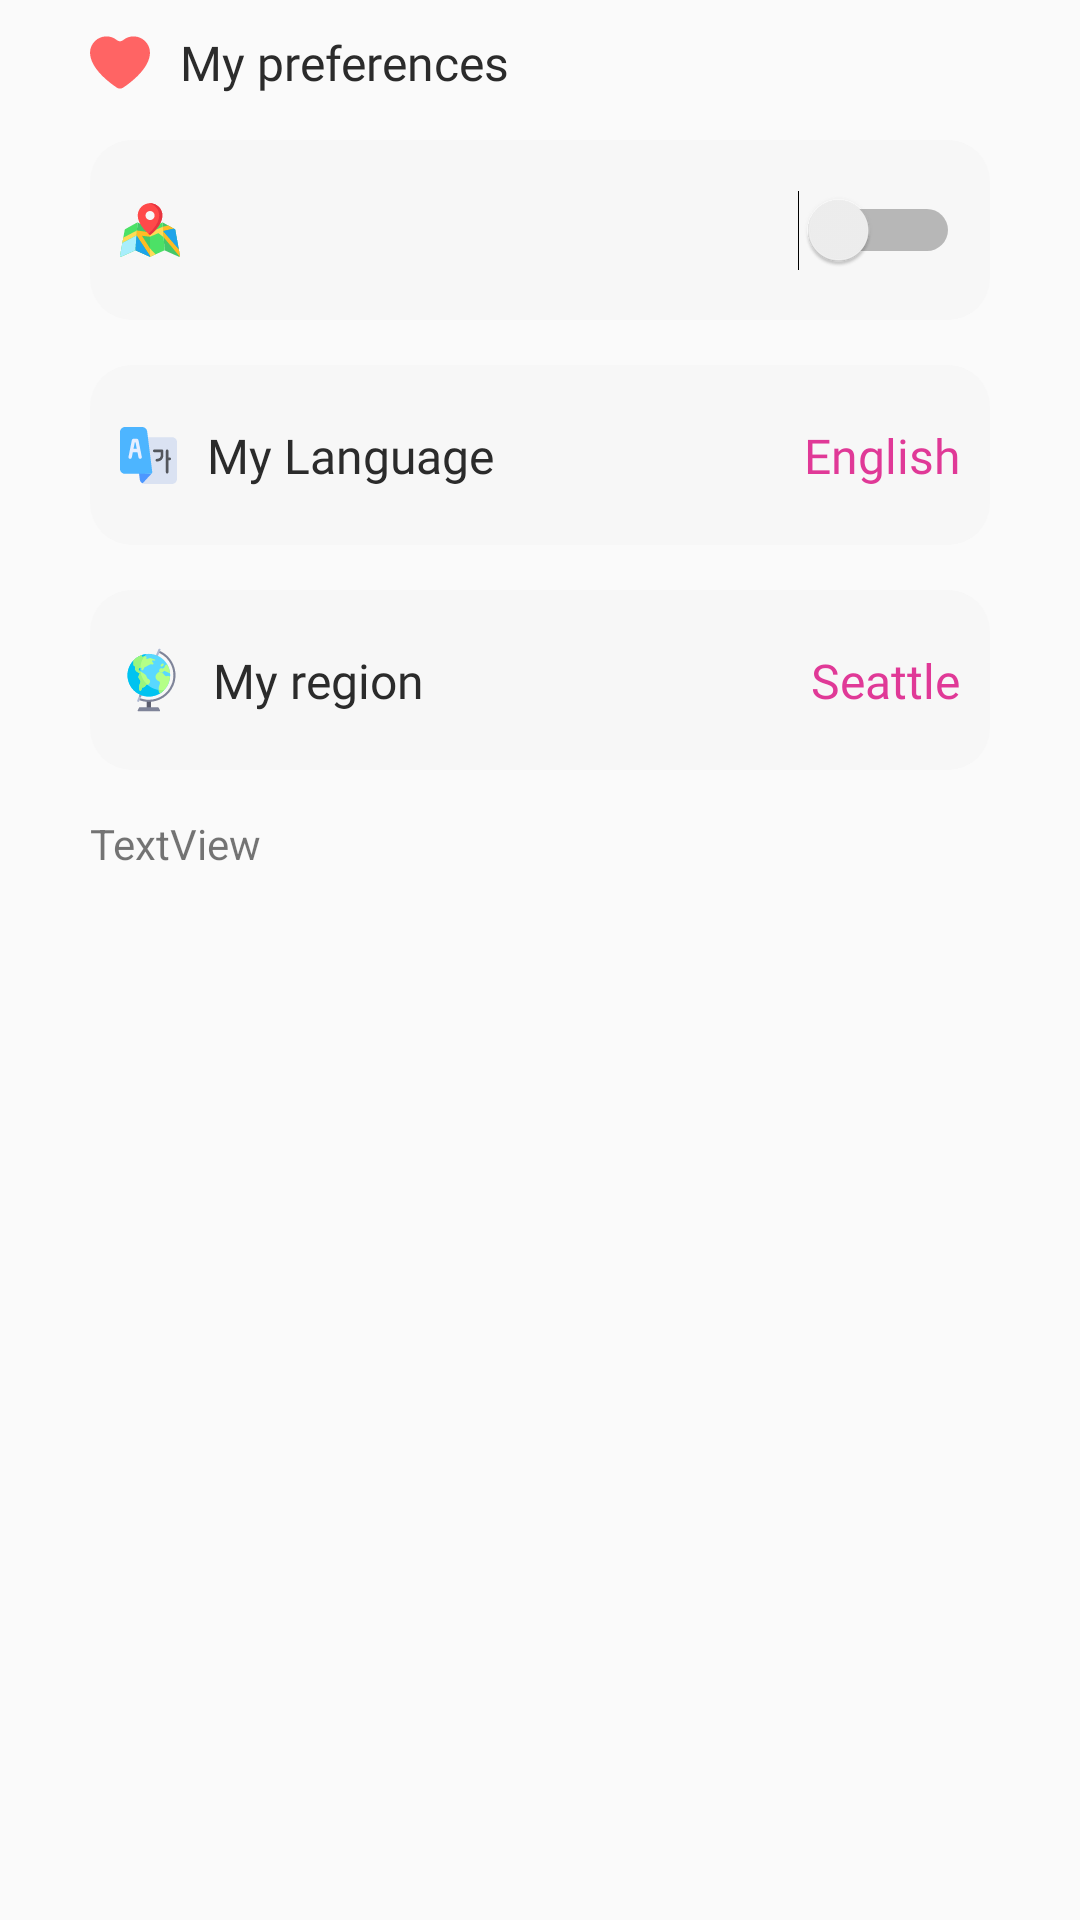

Icons on this 1080px×1920px Android screen, each with the point to tap as (x,y):
profile heart: (120,62)
profile language: (148,455)
profile location: (150,230)
profile region: (151,680)
